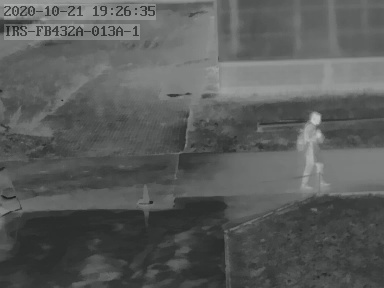person: (299, 111, 330, 184)
